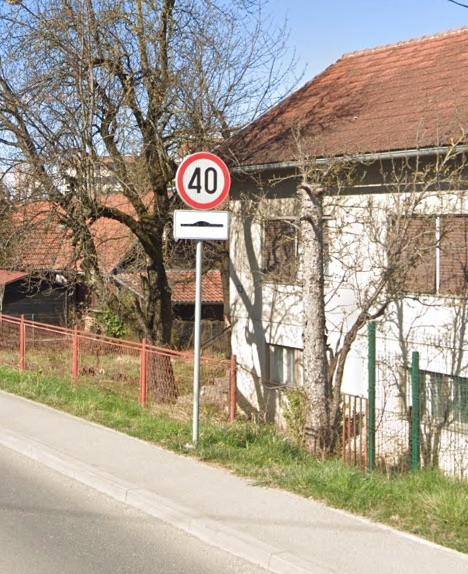Ograničenje brzine 40: (176, 152, 231, 210)
